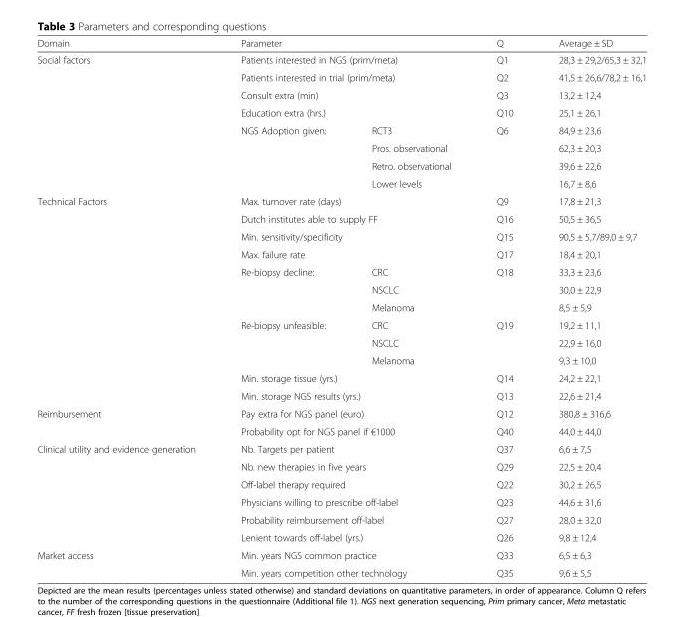table: (36, 37, 646, 578)
table column: (36, 37, 217, 578), (217, 37, 348, 578), (348, 37, 473, 578), (535, 37, 646, 578), (473, 37, 535, 578)
table column header: (36, 37, 646, 51)
table row: (36, 85, 646, 103), (36, 103, 646, 121), (36, 121, 646, 139), (36, 156, 646, 174), (36, 174, 646, 192), (36, 209, 646, 227), (36, 227, 646, 245), (36, 262, 646, 280), (36, 280, 646, 298), (36, 315, 646, 333), (36, 333, 646, 351), (36, 351, 646, 369), (36, 386, 646, 404), (36, 404, 646, 422), (36, 439, 646, 457), (36, 457, 646, 475), (36, 492, 646, 510), (36, 510, 646, 528), (36, 528, 646, 546), (36, 51, 646, 68), (36, 68, 646, 85), (36, 139, 646, 156), (36, 192, 646, 209), (36, 245, 646, 262), (36, 298, 646, 315), (36, 369, 646, 386), (36, 422, 646, 439), (36, 475, 646, 492), (36, 546, 646, 563), (36, 563, 646, 578), (36, 37, 646, 51)
table spanning cell: (36, 192, 217, 404), (36, 51, 217, 192), (36, 439, 217, 546), (217, 121, 348, 192), (217, 315, 348, 369), (217, 262, 348, 315), (36, 404, 217, 439), (36, 546, 217, 578), (217, 85, 473, 103), (217, 103, 473, 121), (217, 209, 473, 227), (217, 227, 473, 245), (217, 386, 473, 404), (217, 404, 473, 422), (217, 439, 473, 457), (217, 457, 473, 475), (217, 492, 473, 510), (217, 510, 473, 528), (217, 528, 473, 546), (217, 51, 473, 68), (217, 68, 473, 85), (217, 192, 473, 209), (217, 245, 473, 262), (217, 369, 473, 386), (217, 422, 473, 439), (217, 475, 473, 492), (217, 546, 473, 563), (217, 563, 473, 578), (217, 37, 473, 51)
